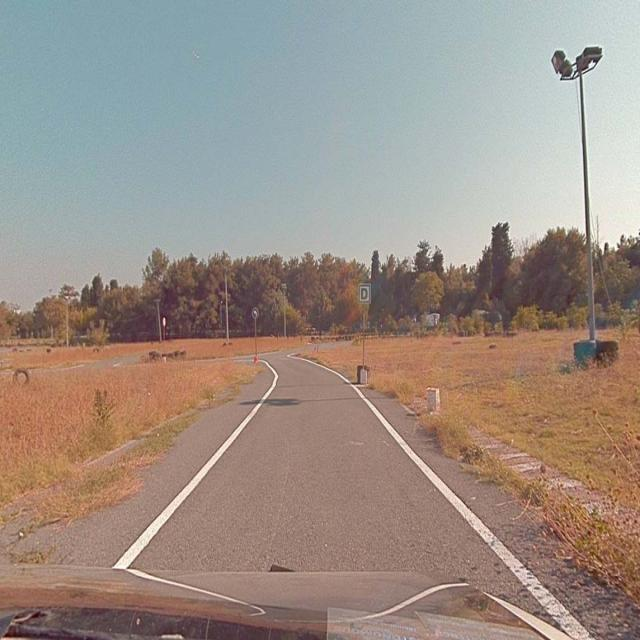durak: (358, 285, 370, 303)
sol: (252, 308, 258, 318)
